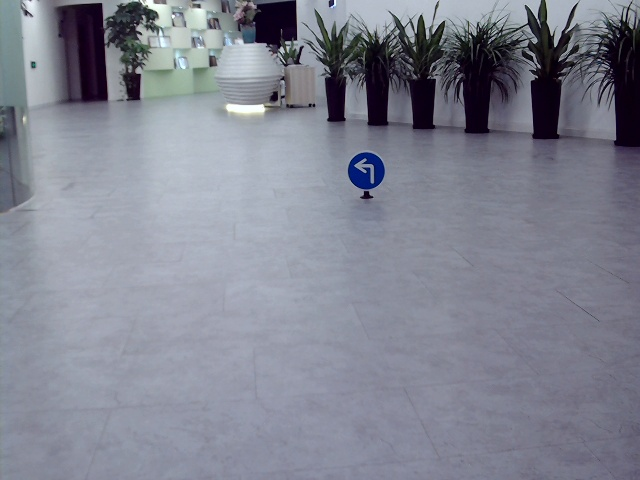turn_left: (353, 155, 379, 184)
